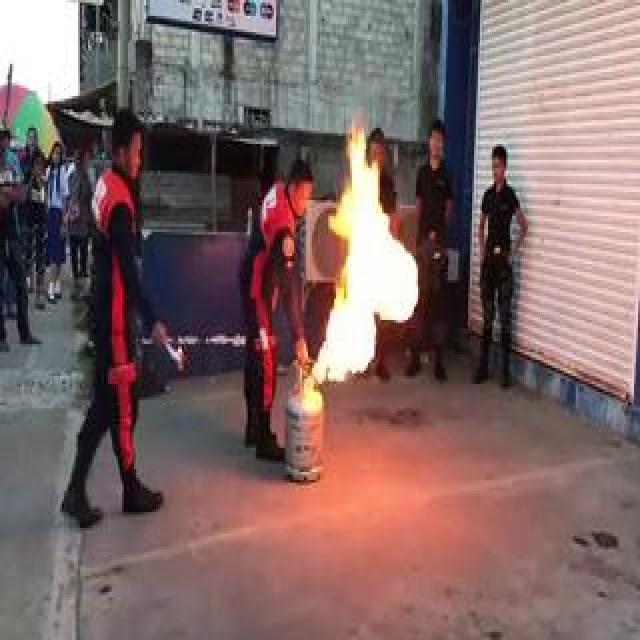Smoke: (301, 118, 423, 386)
